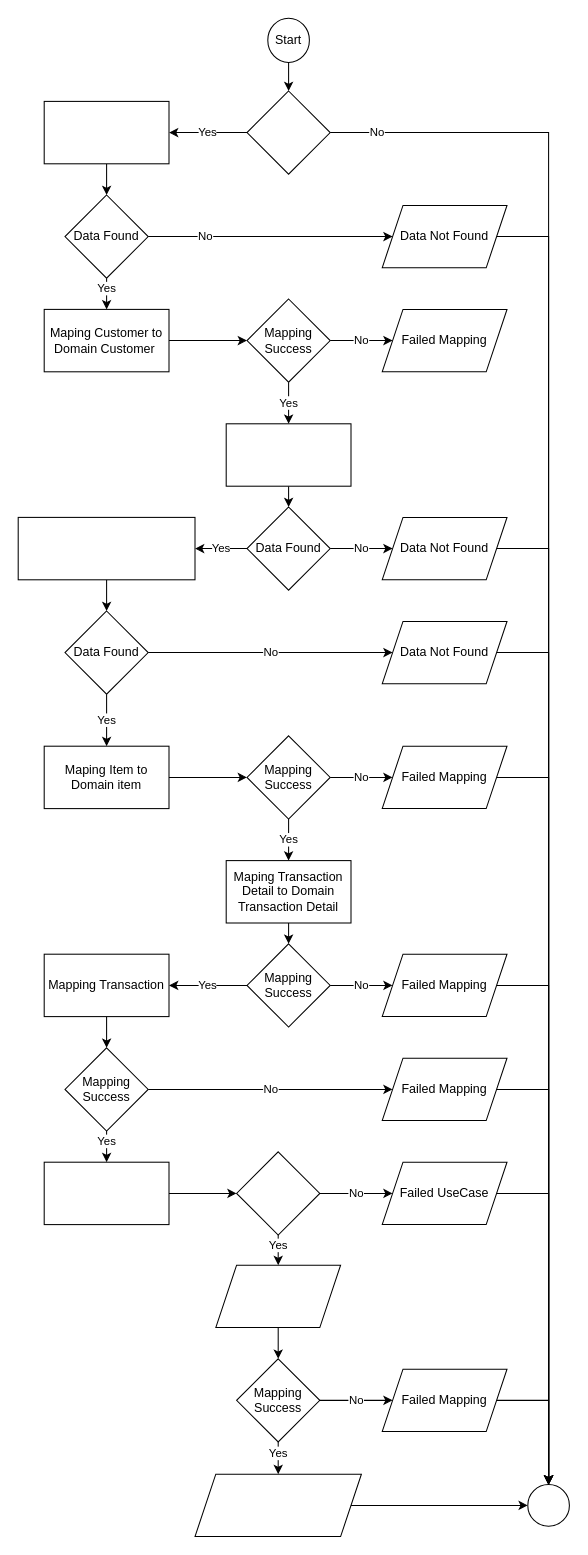
The diagram is 588 pixels wide and 1555 high, and some of its shapes have lost their labels. Here are the shapes that lost their labels. From the top down, the centre of each, then its label:
pixel 106 132: Send Query Select Customer By NIK
pixel 288 132: Connect Database
pixel 288 454: Send Query Select Transaction By Customer_ID
pixel 106 548: Send Query Select Transaction Detail JOIN Item from Repository
pixel 106 1193: UseCase Transaction
pixel 278 1193: UseCase Success
pixel 278 1296: HTTP Mapping Response
pixel 277 1505: Status Code : 200 Data TransactionDetail
pixel 548 1505: End
